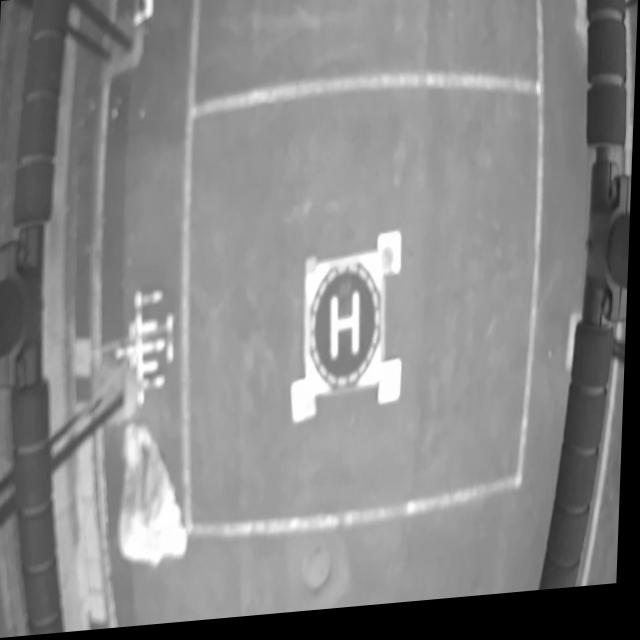Helipad: (332, 297, 362, 363)
